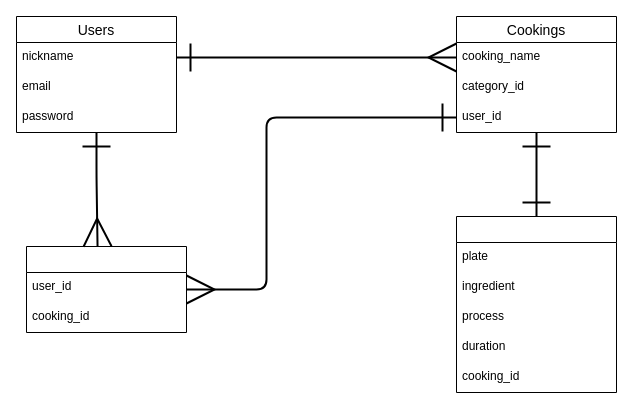
This 633x409 diagram has some shape labels left out. Each missing label, with the box of its shape:
Favorites: (26, 246, 186, 332)
Recipes: (456, 216, 616, 392)
